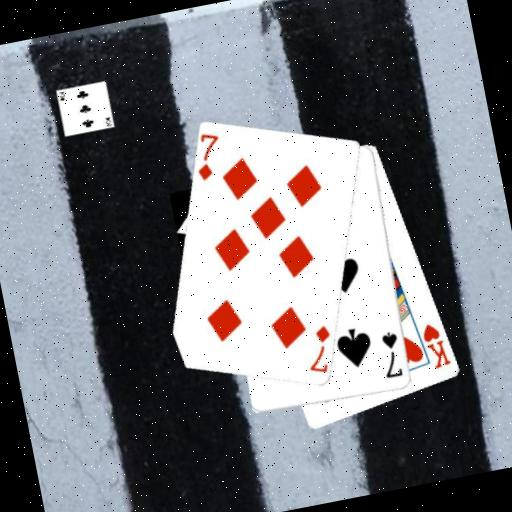7D: (299, 321, 340, 377), (188, 128, 229, 184)
7S: (376, 328, 407, 381)
KH: (418, 318, 454, 372)
